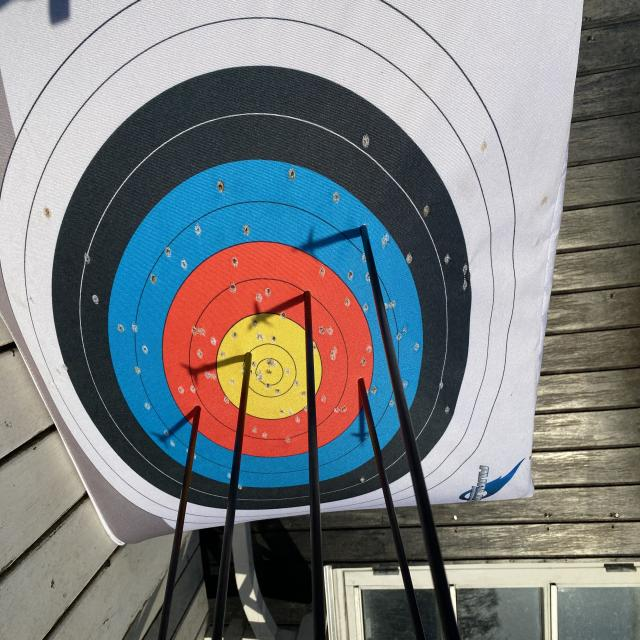Arrow_Blue: (352, 205, 382, 254)
Arrow_Red: (288, 274, 322, 321), (344, 364, 377, 410), (186, 392, 208, 430)
Arrow_Yellow: (236, 342, 272, 384)
